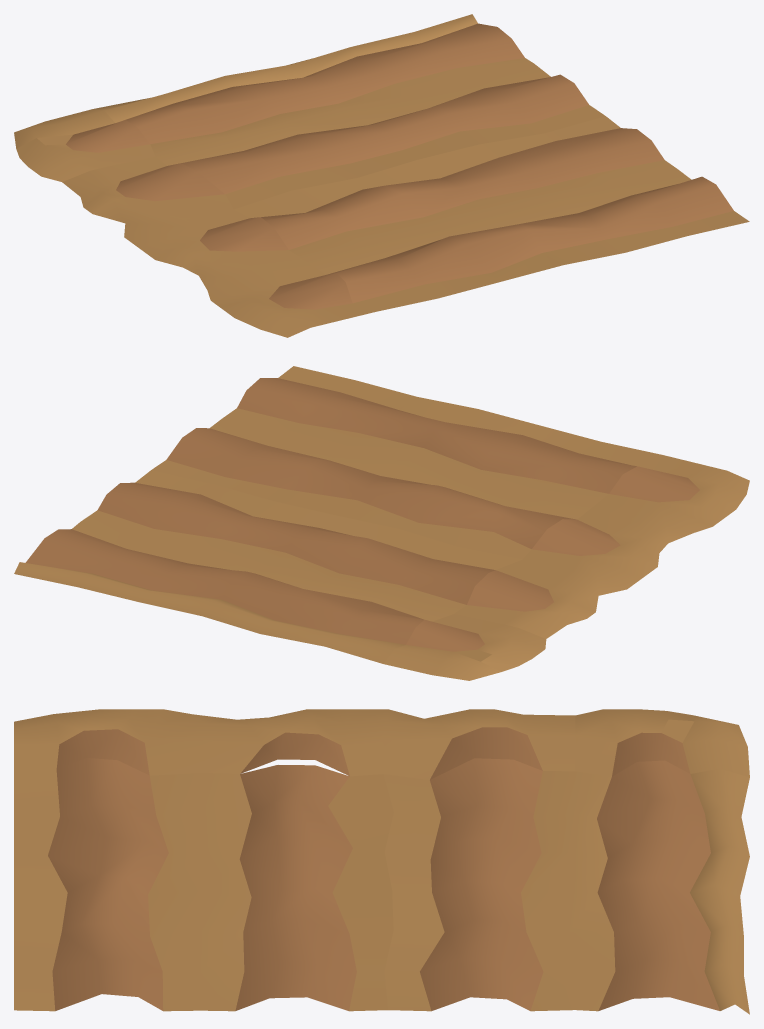
File: Building_model_0_Fieldbackleftedge001.fbx
The picture shows the model from 3 angles, top to bottom: view 1: azimuth 30°, elevation 25°; view 2: azimuth 150°, elevation 25°; view 3: azimuth 270°, elevation 25°; orthographic projection. The views are drawn at different scales.
Visible parts, largest first — view 1: Building_model_0_Fieldbackleftedge001; view 2: Building_model_0_Fieldbackleftedge001; view 3: Building_model_0_Fieldbackleftedge001.
Part boxes in pixels (<box>): Building_model_0_Fieldbackleftedge001: <box>14,14,749,337</box>; Building_model_0_Fieldbackleftedge001: <box>14,366,749,680</box>; Building_model_0_Fieldbackleftedge001: <box>14,709,749,1014</box>.
Size of the model in its own units: 2.9 by 0.0999 by 2.95.
